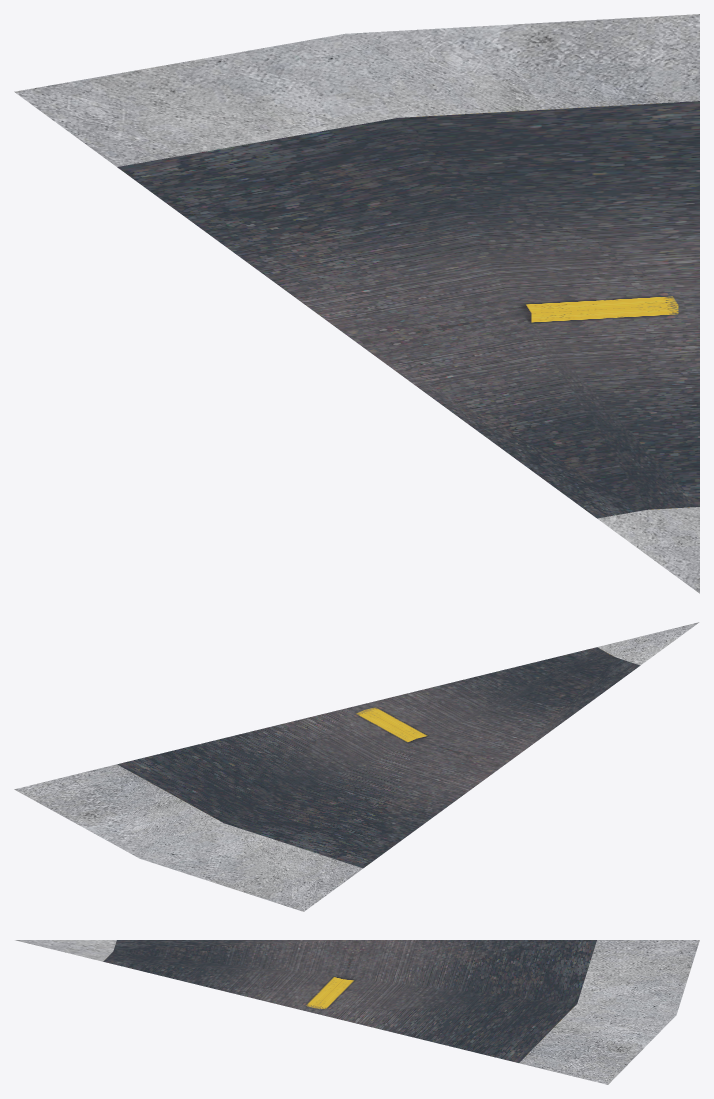
The model's file is track_corner_A.fbx.
3 renders of one model, top to bottom at view 1: azimuth 30°, elevation 25°; view 2: azimuth 150°, elevation 25°; view 3: azimuth 270°, elevation 25°, orthographic. The views are drawn at different scales.
Visible parts, largest first — view 1: track_curve_A; view 2: track_curve_A; view 3: track_curve_A.
Part boxes in pixels (bbox=[...]): track_curve_A: bbox=[14, 14, 699, 593]; track_curve_A: bbox=[14, 622, 699, 911]; track_curve_A: bbox=[15, 940, 699, 1084].
Size of the model in its own units: 5 by 0 by 10.
2 materials, 2 textured.
